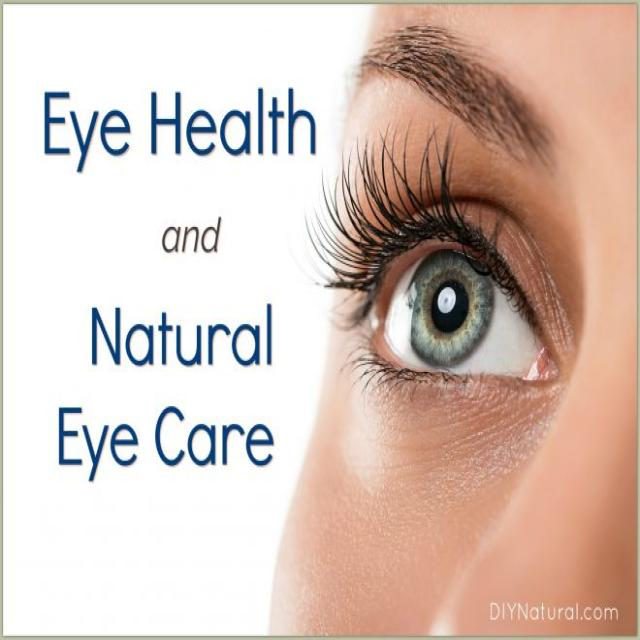Healthy-Eye: (310, 167, 586, 483)
